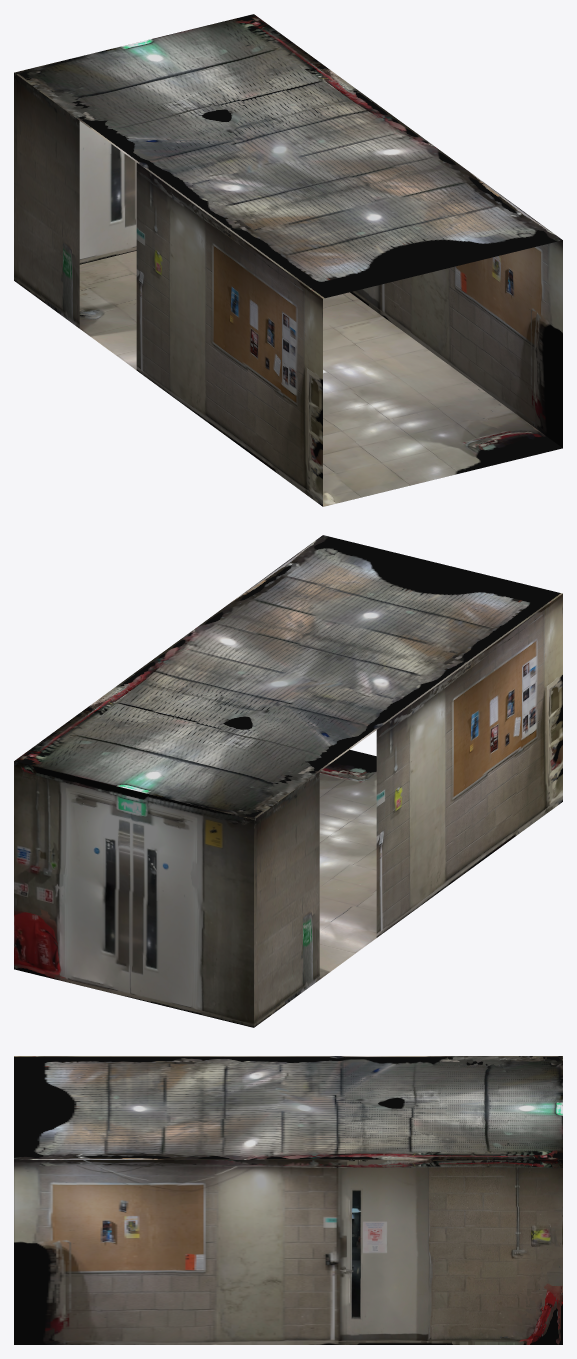
File: MLG_corr_1-IM.fbx
3 views of the same model, one above another, from view 1: azimuth 30°, elevation 25°; view 2: azimuth 150°, elevation 25°; view 3: azimuth 270°, elevation 25° (orthographic). The views are drawn at different scales.
Parts seen in each view (by area): view 1: LG-corr-1LP; view 2: LG-corr-1LP; view 3: LG-corr-1LP.
Part boxes in pixels (x1,y1,x2,y2): LG-corr-1LP: (14,14,562,506); LG-corr-1LP: (14,535,562,1027); LG-corr-1LP: (14,1056,562,1344).
Size of the model in its own units: 306 by 253 by 682.
Materials: 1 (1 with a texture image).
